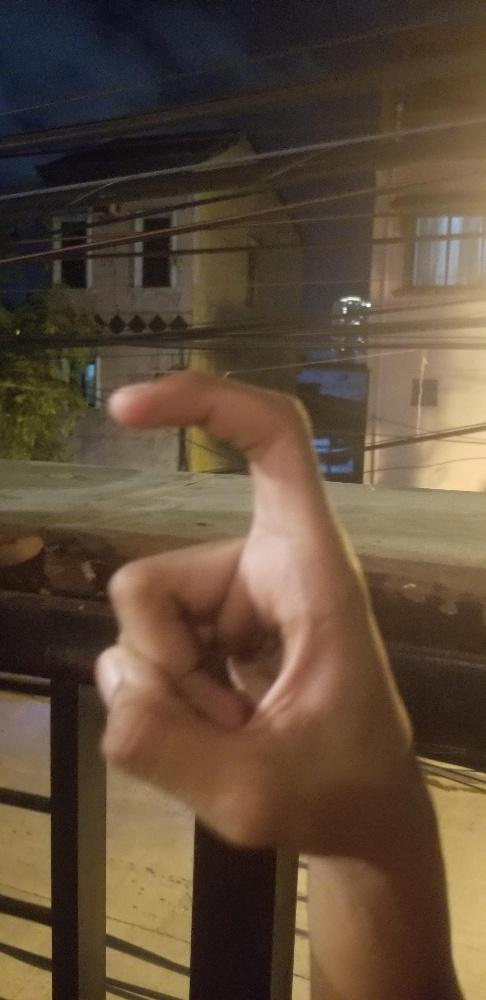x: (94, 372, 421, 849)
